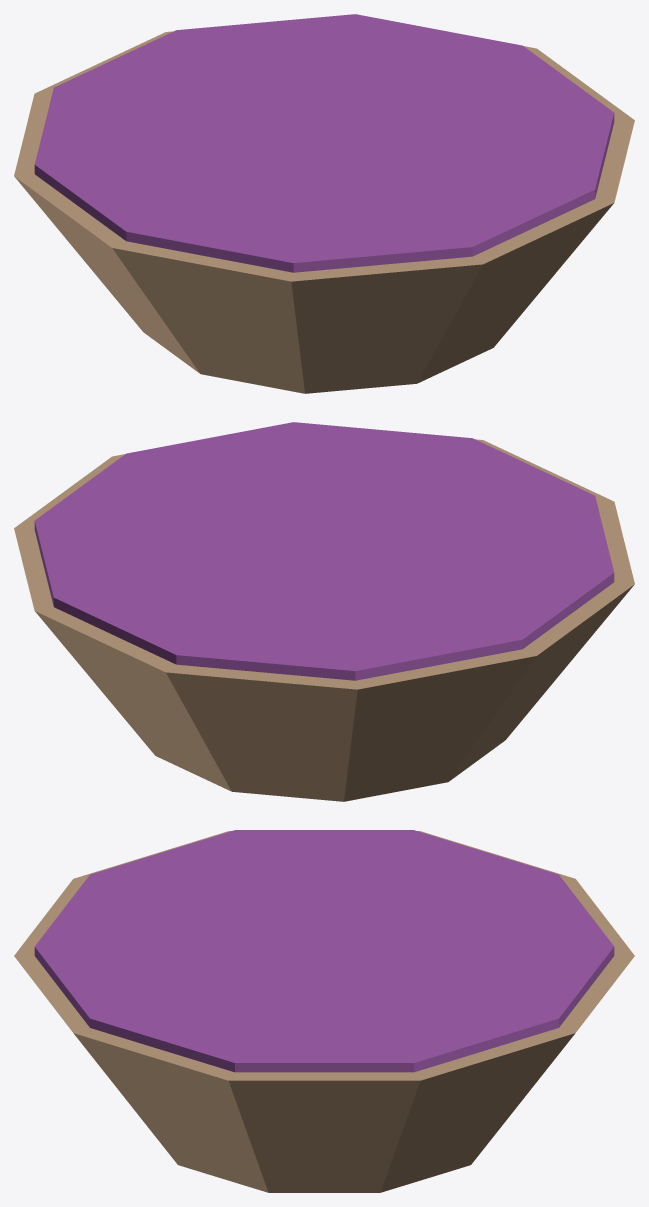
Rendered from AcaiBowl.fbx.
The picture shows the model from 3 angles, top to bottom: view 1: azimuth 30°, elevation 25°; view 2: azimuth 150°, elevation 25°; view 3: azimuth 270°, elevation 25°; orthographic projection. The views are drawn at different scales.
Parts seen in each view (by area): view 1: AcaiBowl; view 2: AcaiBowl; view 3: AcaiBowl.
Part boxes in pixels (left/top/right/bottom): AcaiBowl: left=14, top=14, right=634, bottom=393; AcaiBowl: left=14, top=422, right=634, bottom=801; AcaiBowl: left=14, top=830, right=634, bottom=1192.
Size of the model in its own units: 0.2283 by 0.074 by 0.24.
